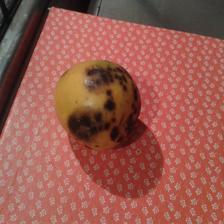Mango Rotten: (51, 59, 141, 149)
